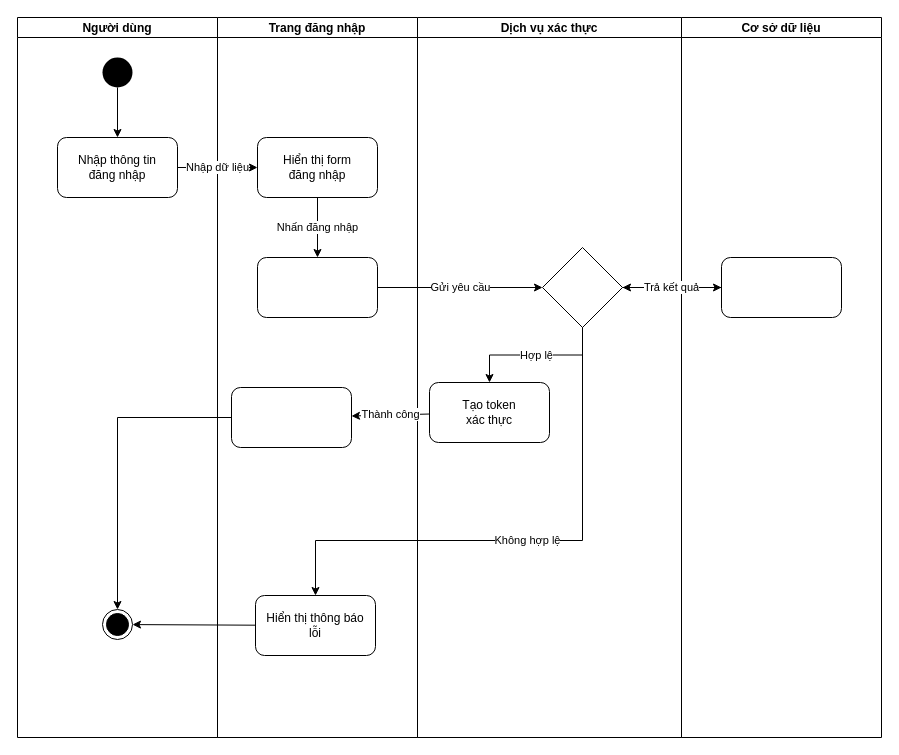
Some shapes in this 899 by 755 pixel diagram are drawn without their labels. The centre of each missing label's shape, as x and y in pixels:
"Chuyển hướng về trang chủ" belongs at pixel 291 417.
"Gửi form" belongs at pixel 317 287.
"Kiểm tra thông tin" belongs at pixel 582 287.
"Kiểm tra tài khoản" belongs at pixel 781 287.
